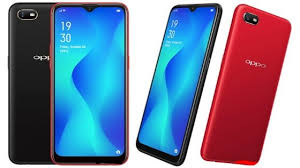oppo: (3, 1, 133, 168), (199, 1, 293, 166)
